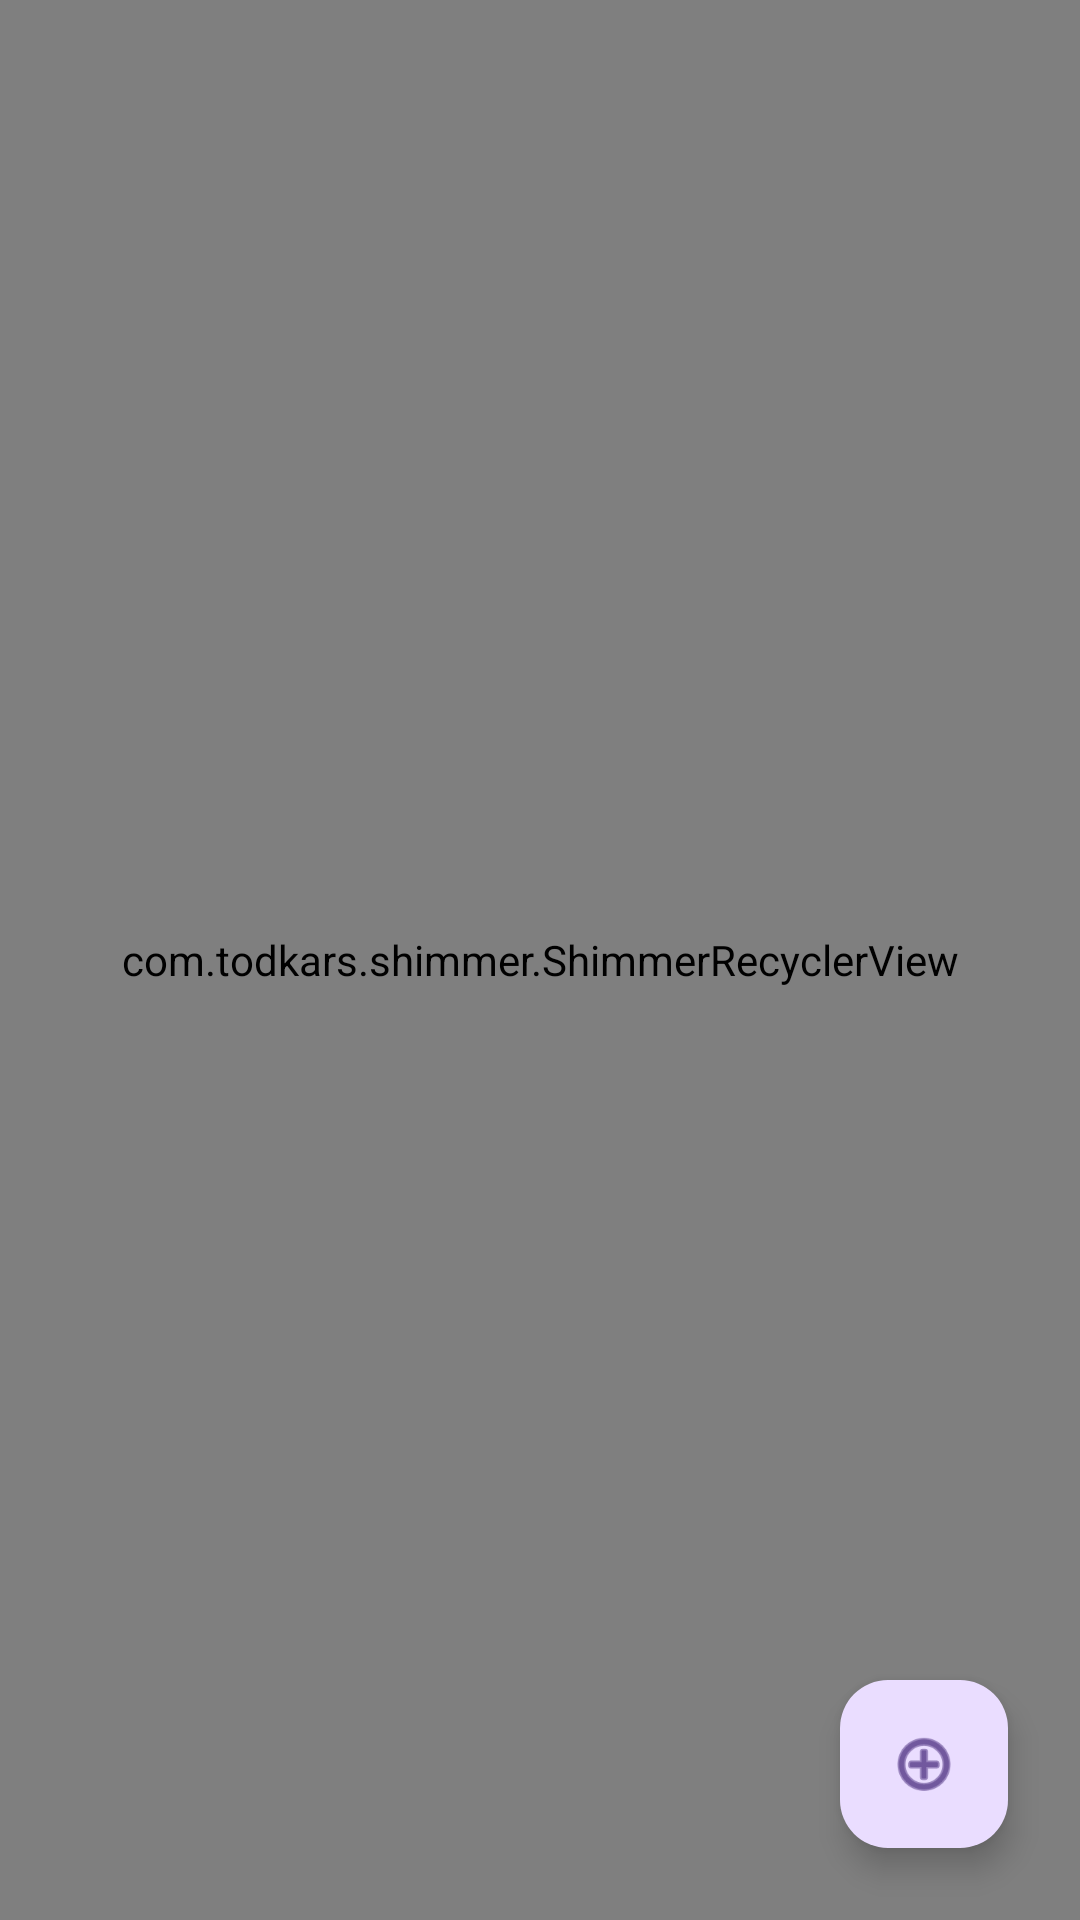

Icons on this 1080w x 1920h Android screen, each with the point to tap as point (x, y):
Add new student: point (924, 1764)
